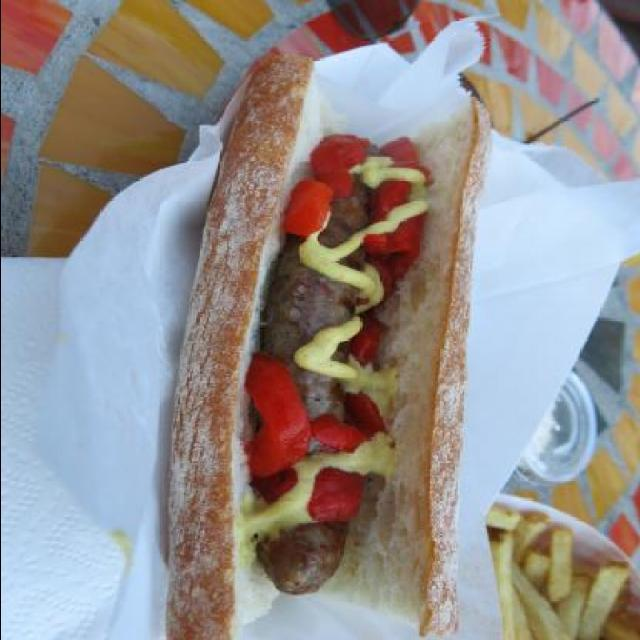Hot dog: (178, 24, 546, 640)
